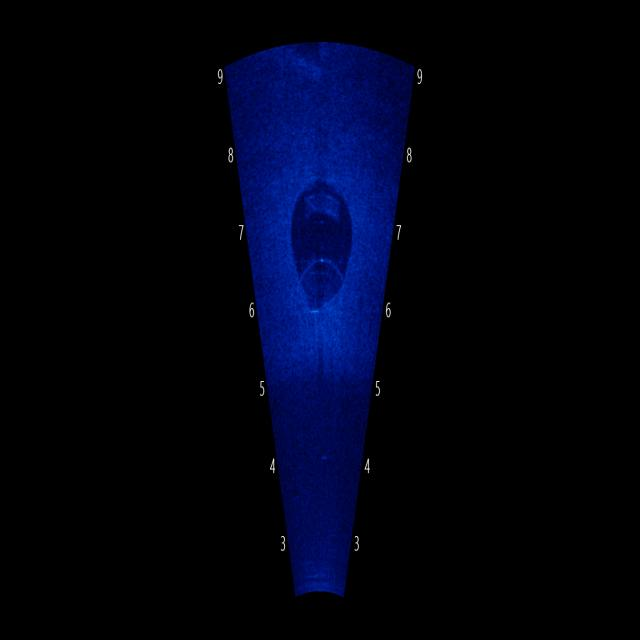circle: (284, 157, 361, 332)
